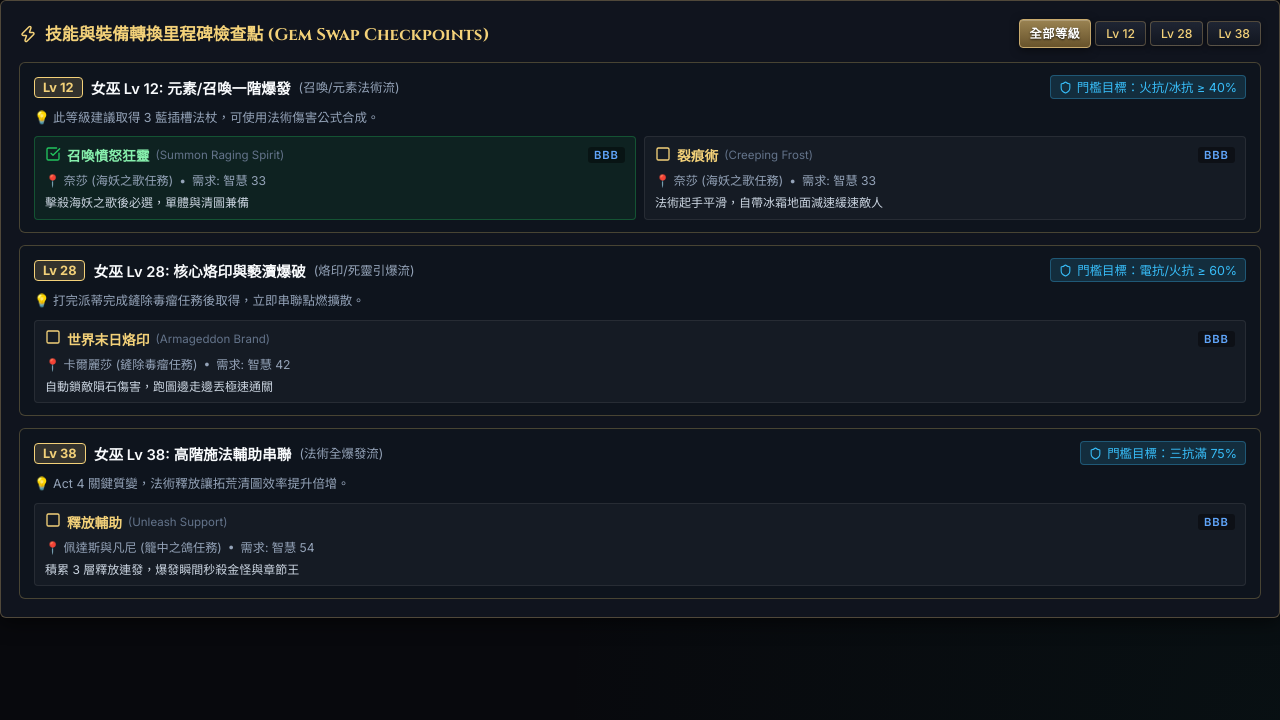
Test: ActGemSwapCheckpoints Component (Issue #94) › renders milestones for witch class with gems, warnings and filters
expect the heading "技能與裝備轉換里程碑檢查點 (Gem Swap Checkpoints)" is shown: met, box [45,21,490,46]
expect the text "女巫 Lv 12: 元素/召喚一階爆發" is shown: met, box [91,76,291,98]
Note: Filter by Lv 12
What coordinates should you click on to do the following:
click the button "Lv 12"
I would click on:
 (1121, 34)
Its box is [1095,21,1146,46].
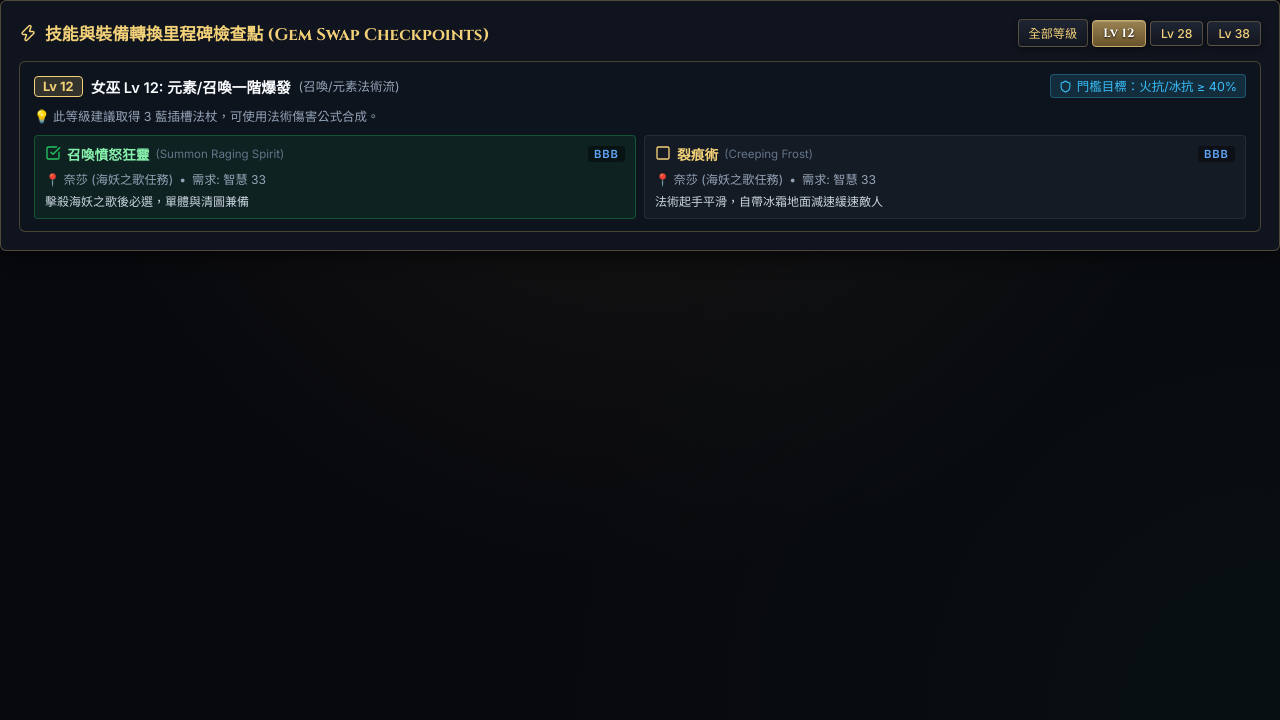
expect the text "女巫 Lv 12: 元素/召喚一階爆發" is shown: met, box [91,76,291,96]
expect the text "女巫 Lv 28: 核心烙印與褻瀆爆破" is gone: met
Note: Filter back to all
What coordinates should you click on to do the following:
click the button "全部等級"
I would click on:
 (1053, 33)
Its box is [1018,19,1088,47].
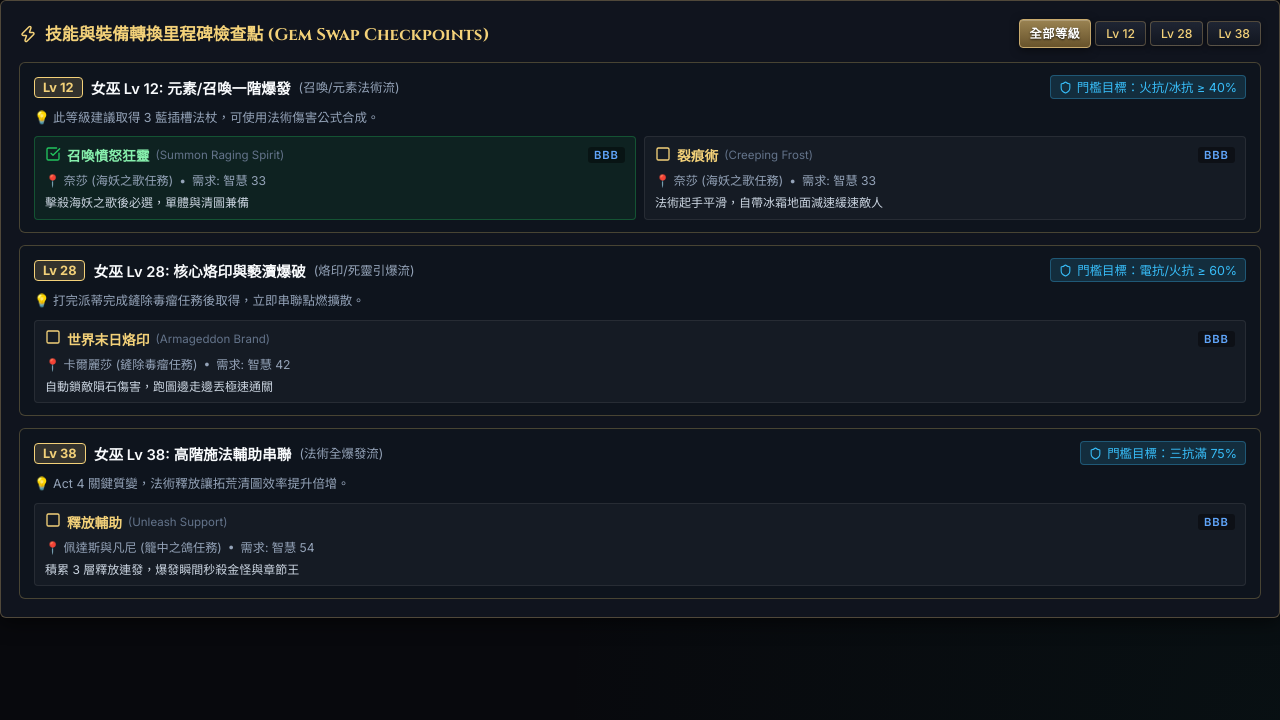
expect the text "女巫 Lv 28: 核心烙印與褻瀆爆破" is shown: met, box [94,260,306,281]
